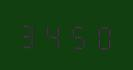five: (66, 20, 89, 50)
four: (42, 19, 65, 49)
three: (18, 19, 41, 49)
zero: (90, 20, 113, 50)
